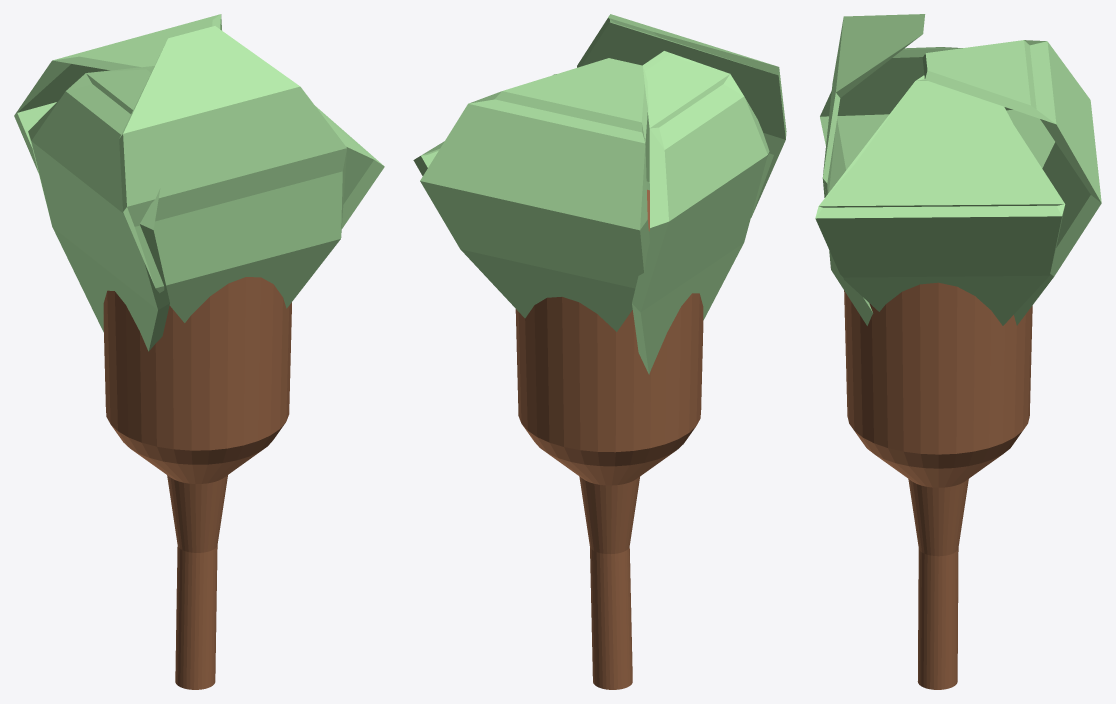
The model's file is budmint.fbx.
The picture shows the model from 3 angles, left to right: view 1: azimuth 30°, elevation 25°; view 2: azimuth 150°, elevation 25°; view 3: azimuth 270°, elevation 25°; orthographic projection.
Parts seen in each view (by area): view 1: Bud; view 2: Bud; view 3: Bud.
Boxes of the visible parts, x1,y1,x2,y2 form: Bud: (14, 14, 384, 689); Bud: (413, 14, 786, 689); Bud: (815, 14, 1101, 689).
Bounding box in the file's own units: 34.06 × 82.21 × 32.66.
